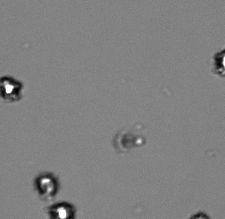Dead Cell: (114, 128, 136, 153)
Living Cell: (1, 73, 25, 102), (34, 172, 60, 197), (48, 201, 74, 217)
